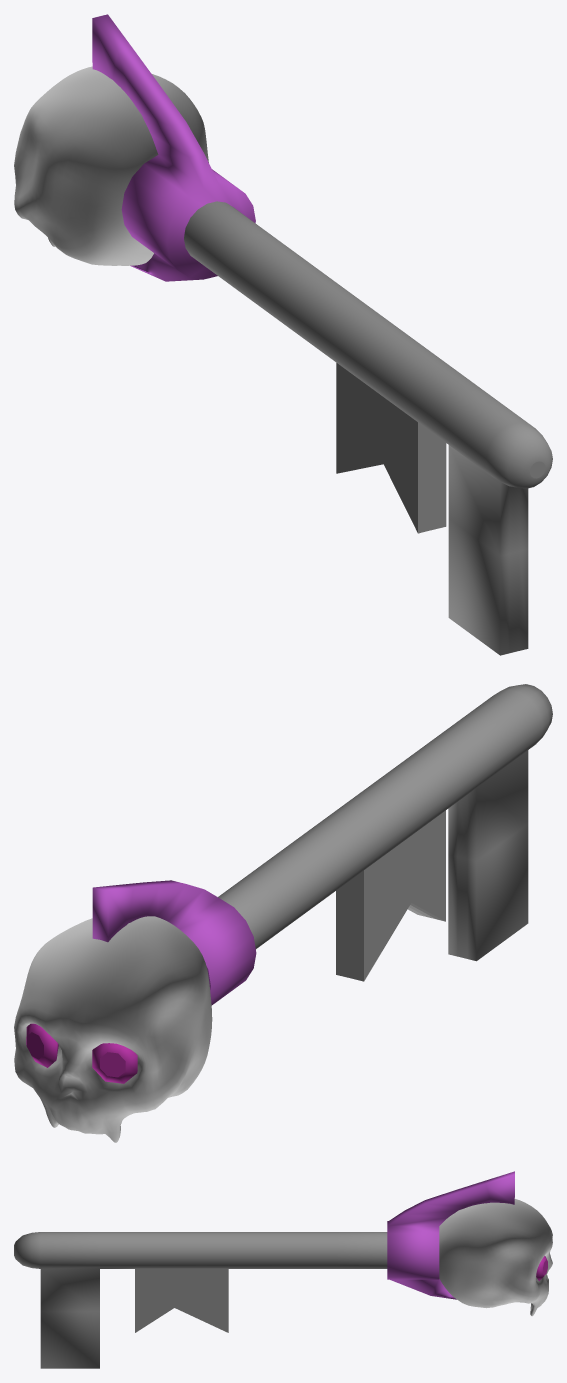
The model's file is hightier.fbx.
The picture shows the model from 3 angles, top to bottom: view 1: azimuth 30°, elevation 25°; view 2: azimuth 150°, elevation 25°; view 3: azimuth 270°, elevation 25°; orthographic projection. The views are drawn at different scales.
Parts seen in each view (by area): view 1: clé_high:clé002, clé_high:ZBrush_defualt_group001, clé_high:Cylinder002; view 2: clé_high:clé002, clé_high:ZBrush_defualt_group001, clé_high:Cylinder002, clé_high:Cylinder004, clé_high:Cylinder003; view 3: clé_high:clé002, clé_high:ZBrush_defualt_group001, clé_high:Cylinder002.
Boxes of the visible parts, bbox=[...] form: clé_high:clé002: bbox=[184, 201, 552, 655]; clé_high:ZBrush_defualt_group001: bbox=[14, 66, 208, 265]; clé_high:Cylinder002: bbox=[92, 14, 255, 281]; clé_high:clé002: bbox=[218, 684, 552, 981]; clé_high:ZBrush_defualt_group001: bbox=[14, 916, 212, 1142]; clé_high:Cylinder002: bbox=[92, 880, 256, 1005]; clé_high:Cylinder004: bbox=[92, 1043, 137, 1083]; clé_high:Cylinder003: bbox=[26, 1023, 58, 1067]; clé_high:clé002: bbox=[14, 1232, 387, 1368]; clé_high:ZBrush_defualt_group001: bbox=[439, 1199, 552, 1316]; clé_high:Cylinder002: bbox=[387, 1171, 514, 1299].
Bounding box in the file's own units: 8 × 15.91 × 40.67.
